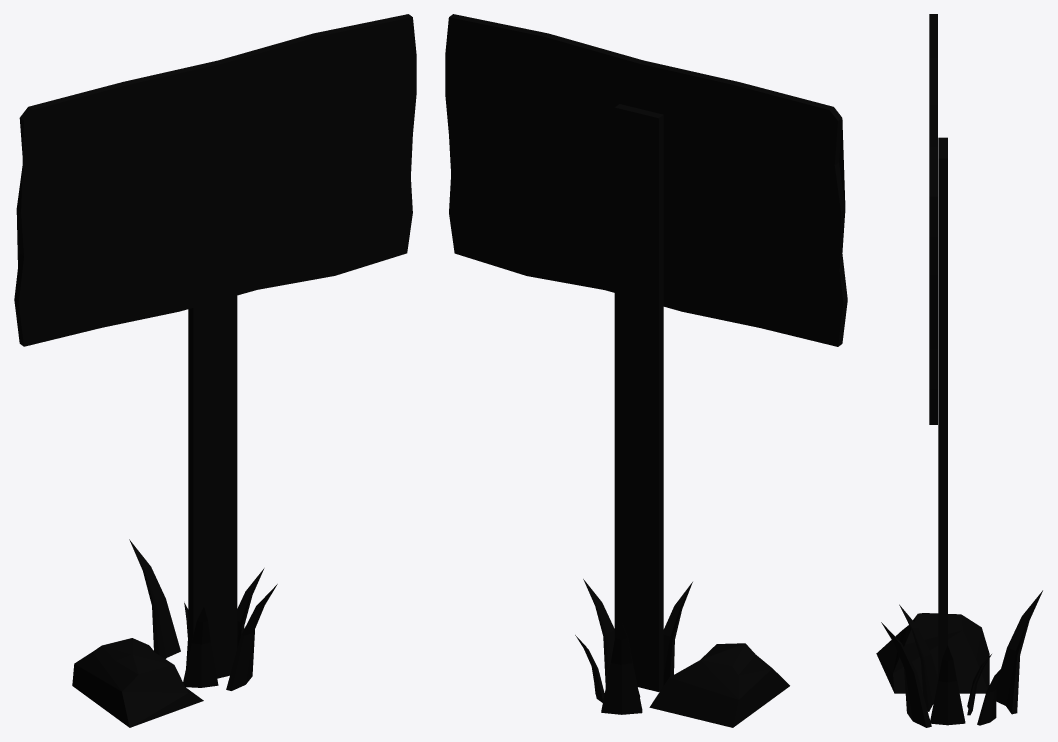
The model's file is Sign11.fbx.
The picture shows the model from 3 angles, left to right: view 1: azimuth 30°, elevation 25°; view 2: azimuth 150°, elevation 25°; view 3: azimuth 270°, elevation 25°; orthographic projection.
Parts seen in each view (by area): view 1: node_id4; view 2: node_id4; view 3: node_id4.
Part boxes in pixels (x1,y1,x2,y2): node_id4: (14,14,416,727); node_id4: (445,14,847,727); node_id4: (876,14,1042,727).
Bounding box in the file's own units: 0.3423 × 0.512 × 0.1266.
1 material, 1 textured.
